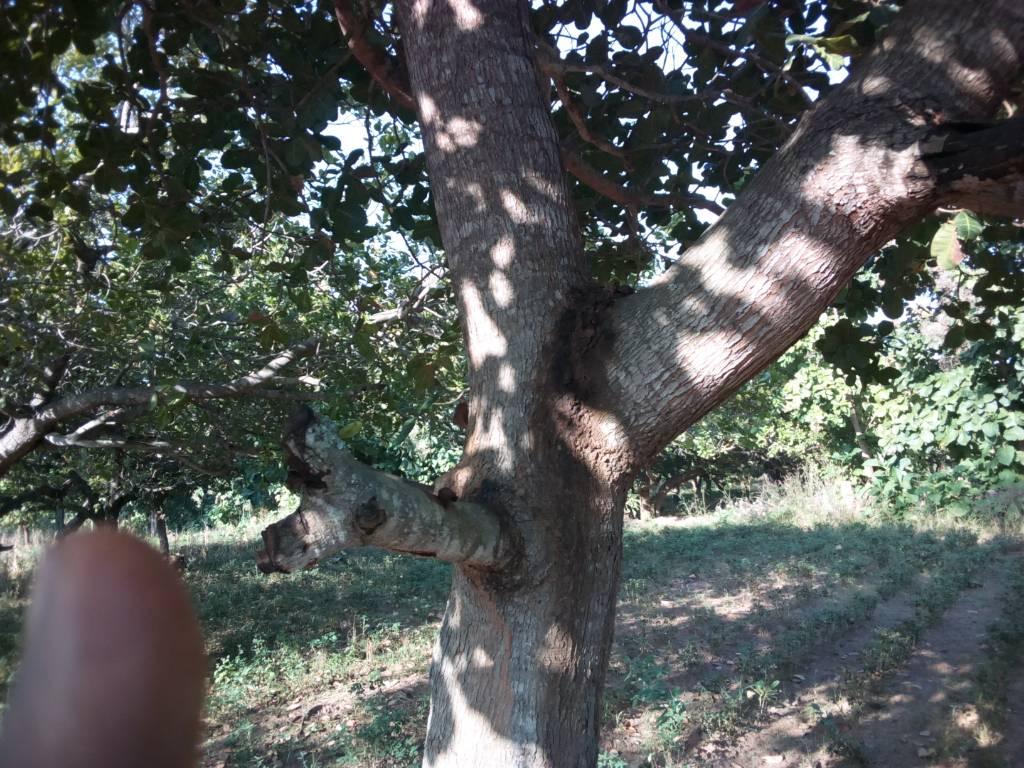Gommose: (528, 287, 623, 475)
